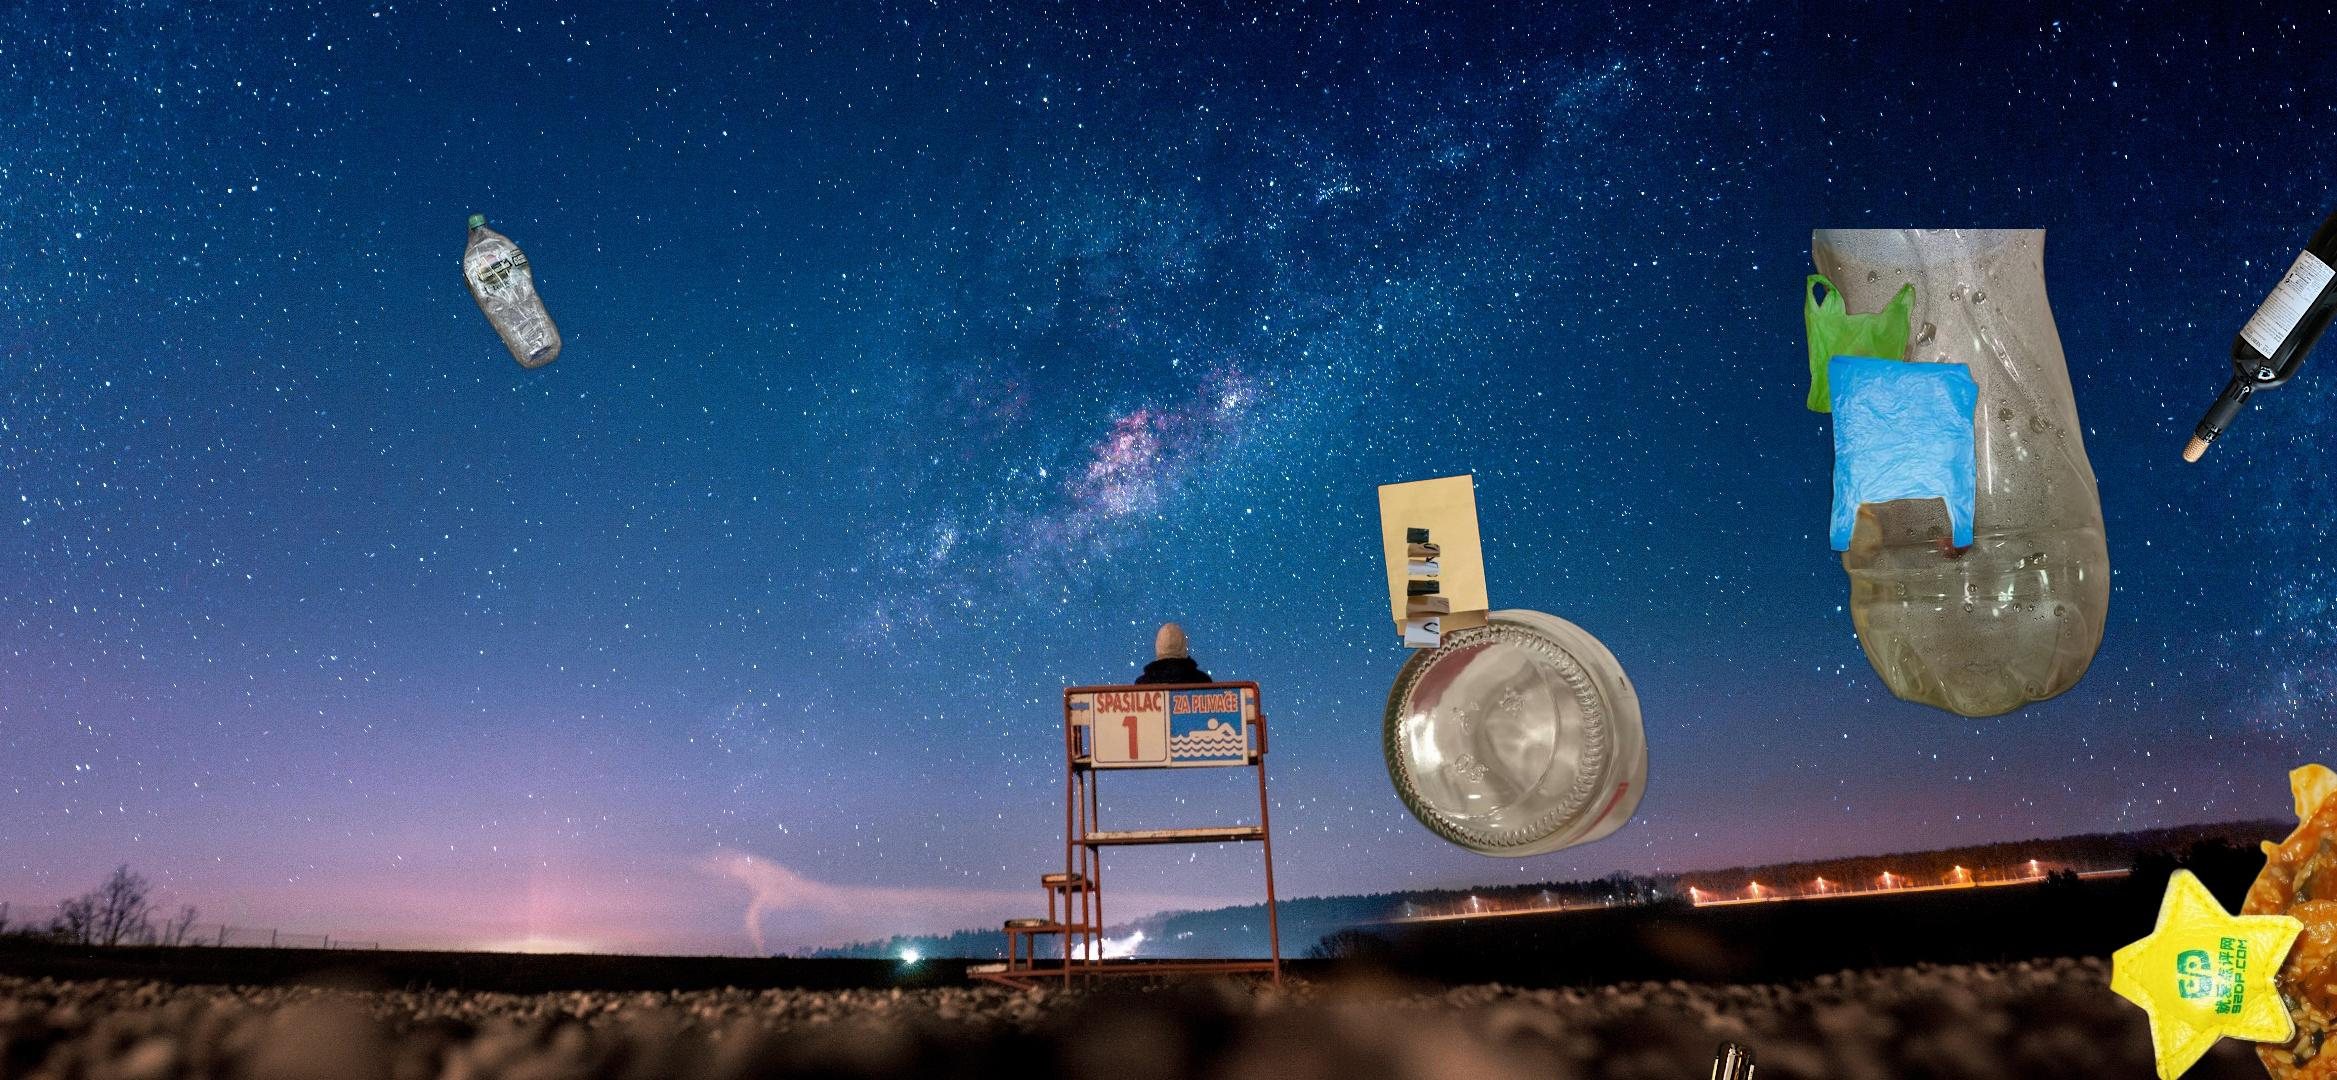biological: (2099, 760, 2337, 1080)
glass: (1379, 606, 1651, 863), (2178, 203, 2337, 469), (1702, 1035, 1978, 1080)
paper-bag: (1374, 471, 1493, 652)
plastic-bag: (1718, 270, 2020, 569)
plastic-bottles: (1812, 229, 2112, 740), (458, 207, 566, 375)
